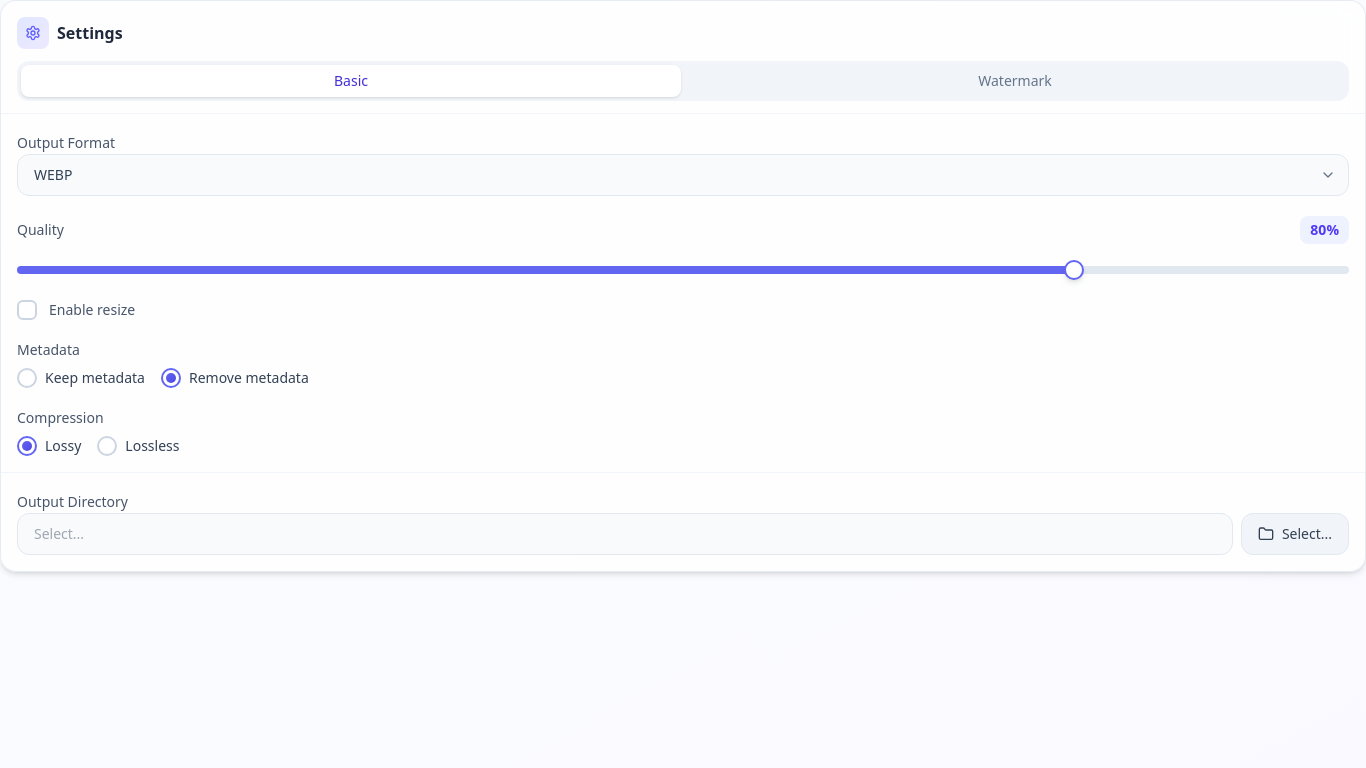
Test: SettingsPanel › メタデータ › 「保持」を選ぶと keep_metadata が true になる
Click the radio button labelled "Keep metadata". click: (27, 378)
box: [17,368,37,388]
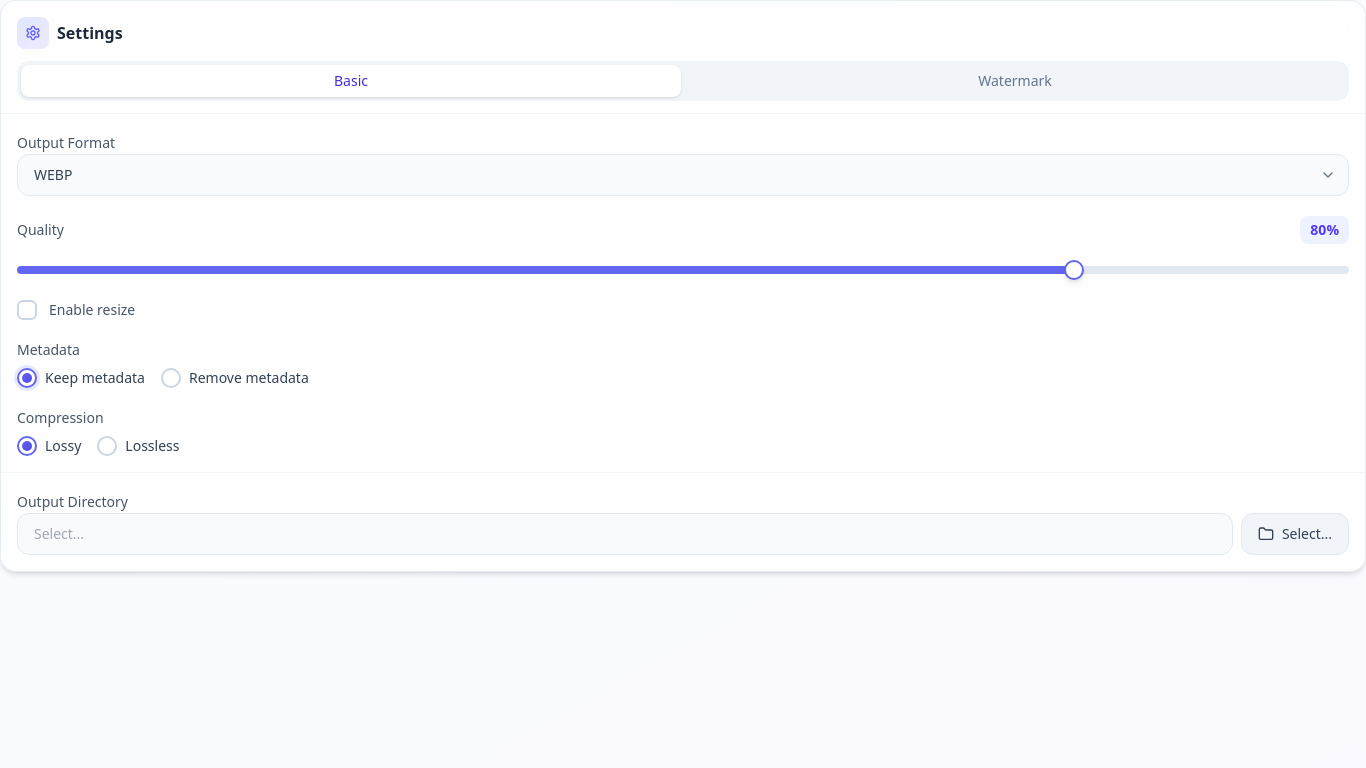
Expected: the radio button labelled "Remove metadata" is not checked, [161,368,181,388]
